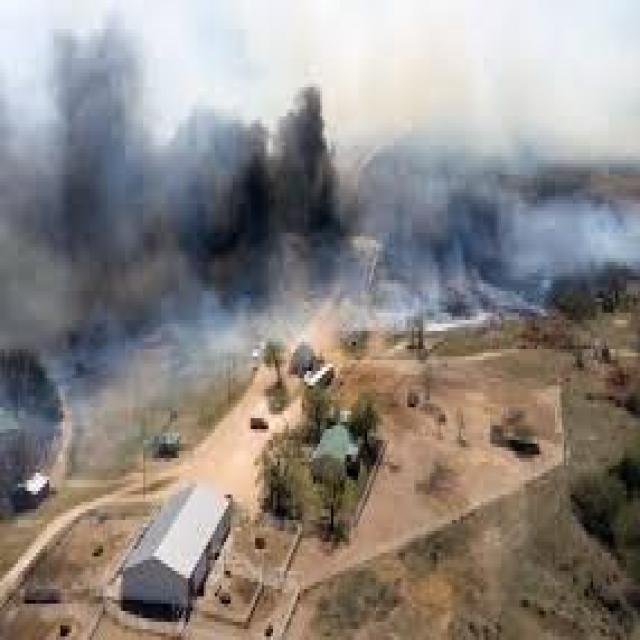Smoke: (0, 22, 340, 351), (342, 142, 640, 314)
